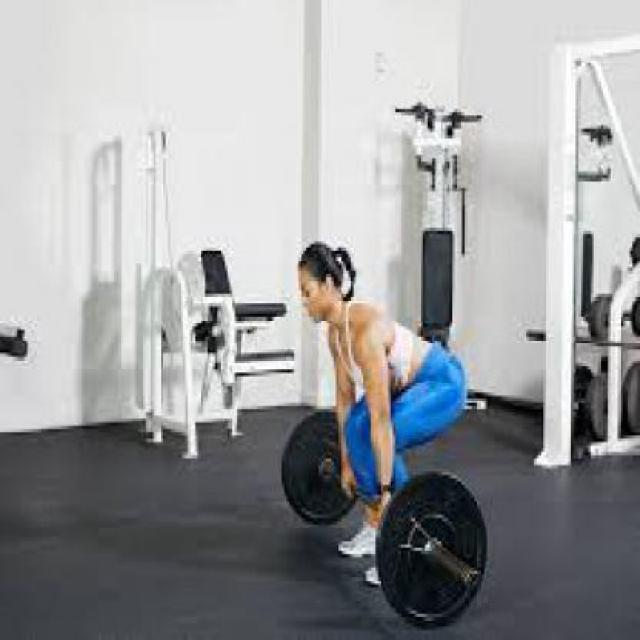barbell: (374, 465, 489, 635)
